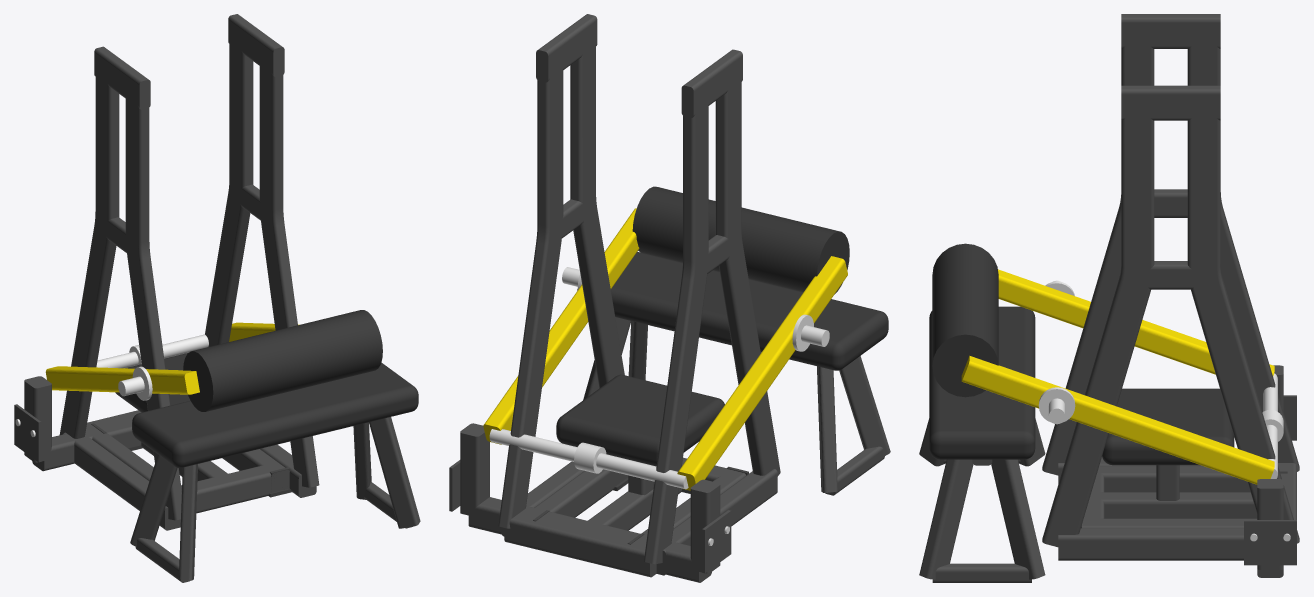
The picture shows the model from 3 angles, left to right: view 1: azimuth 30°, elevation 25°; view 2: azimuth 150°, elevation 25°; view 3: azimuth 270°, elevation 25°; orthographic projection. The views are drawn at different scales.
Parts seen in each view (by area): view 1: side_leg_tube (×4), bench_pad, lever_roller, bench_leg (×4), base, frame, side_cap (×2), lever_bar (×2), lever_support, bench, lever_axle, gusset (+2 smaller); view 2: side_leg_tube (×4), bench_pad, lever_bar (×2), lever_roller, seat_pad, lever_support, bench_leg (×4), base, frame, side_link, side_cap (×2), lever_axle (+4 smaller); view 3: side_leg_tube (×4), lever_bar (×2), bench_pad, base, frame, lever_roller, side_cap (×2), bench_leg (×2), seat_pad, gusset (×2), bench, lever_support (+4 smaller).
Boxes of the visible parts, box(x1,y1,x2,y2) form: side_leg_tube (×4): box(59, 43, 319, 520); bench_pad: box(132, 362, 418, 467); lever_roller: box(183, 310, 382, 411); bench_leg (×4): box(130, 417, 420, 580); base: box(86, 416, 289, 513); frame: box(63, 184, 316, 530); side_cap (×2): box(94, 14, 284, 109); lever_bar (×2): box(45, 322, 299, 394); lever_support: box(24, 376, 141, 471); bench: box(135, 482, 412, 582); lever_axle: box(96, 334, 208, 368); gusset: box(14, 404, 41, 462); side_leg_tube (×4): box(498, 33, 780, 564); bench_pad: box(577, 251, 888, 370); lever_bar (×2): box(483, 208, 847, 490); lever_roller: box(632, 186, 849, 294); seat_pad: box(556, 374, 724, 466); lever_support: box(460, 423, 720, 582); bench_leg (×4): box(583, 317, 890, 492); base: box(522, 457, 746, 541); frame: box(501, 199, 777, 575); side_link: box(504, 513, 656, 577); side_cap (×2): box(536, 14, 742, 118); lever_axle: box(489, 429, 688, 489); side_leg_tube (×4): box(1042, 34, 1299, 547); lever_bar (×2): box(961, 269, 1274, 484); bench_pad: box(929, 306, 1035, 459); base: box(1082, 466, 1286, 528); frame: box(1058, 189, 1283, 560); lever_roller: box(932, 243, 998, 397); side_cap (×2): box(1121, 14, 1220, 120); bench_leg (×2): box(919, 459, 1045, 579); seat_pad: box(1102, 388, 1234, 465); gusset (×2): box(1244, 395, 1296, 565); bench: box(932, 459, 1031, 582); lever_support: box(1257, 365, 1283, 577).
Size of the model in its own units: 0.9 by 1.5 by 1.1.
